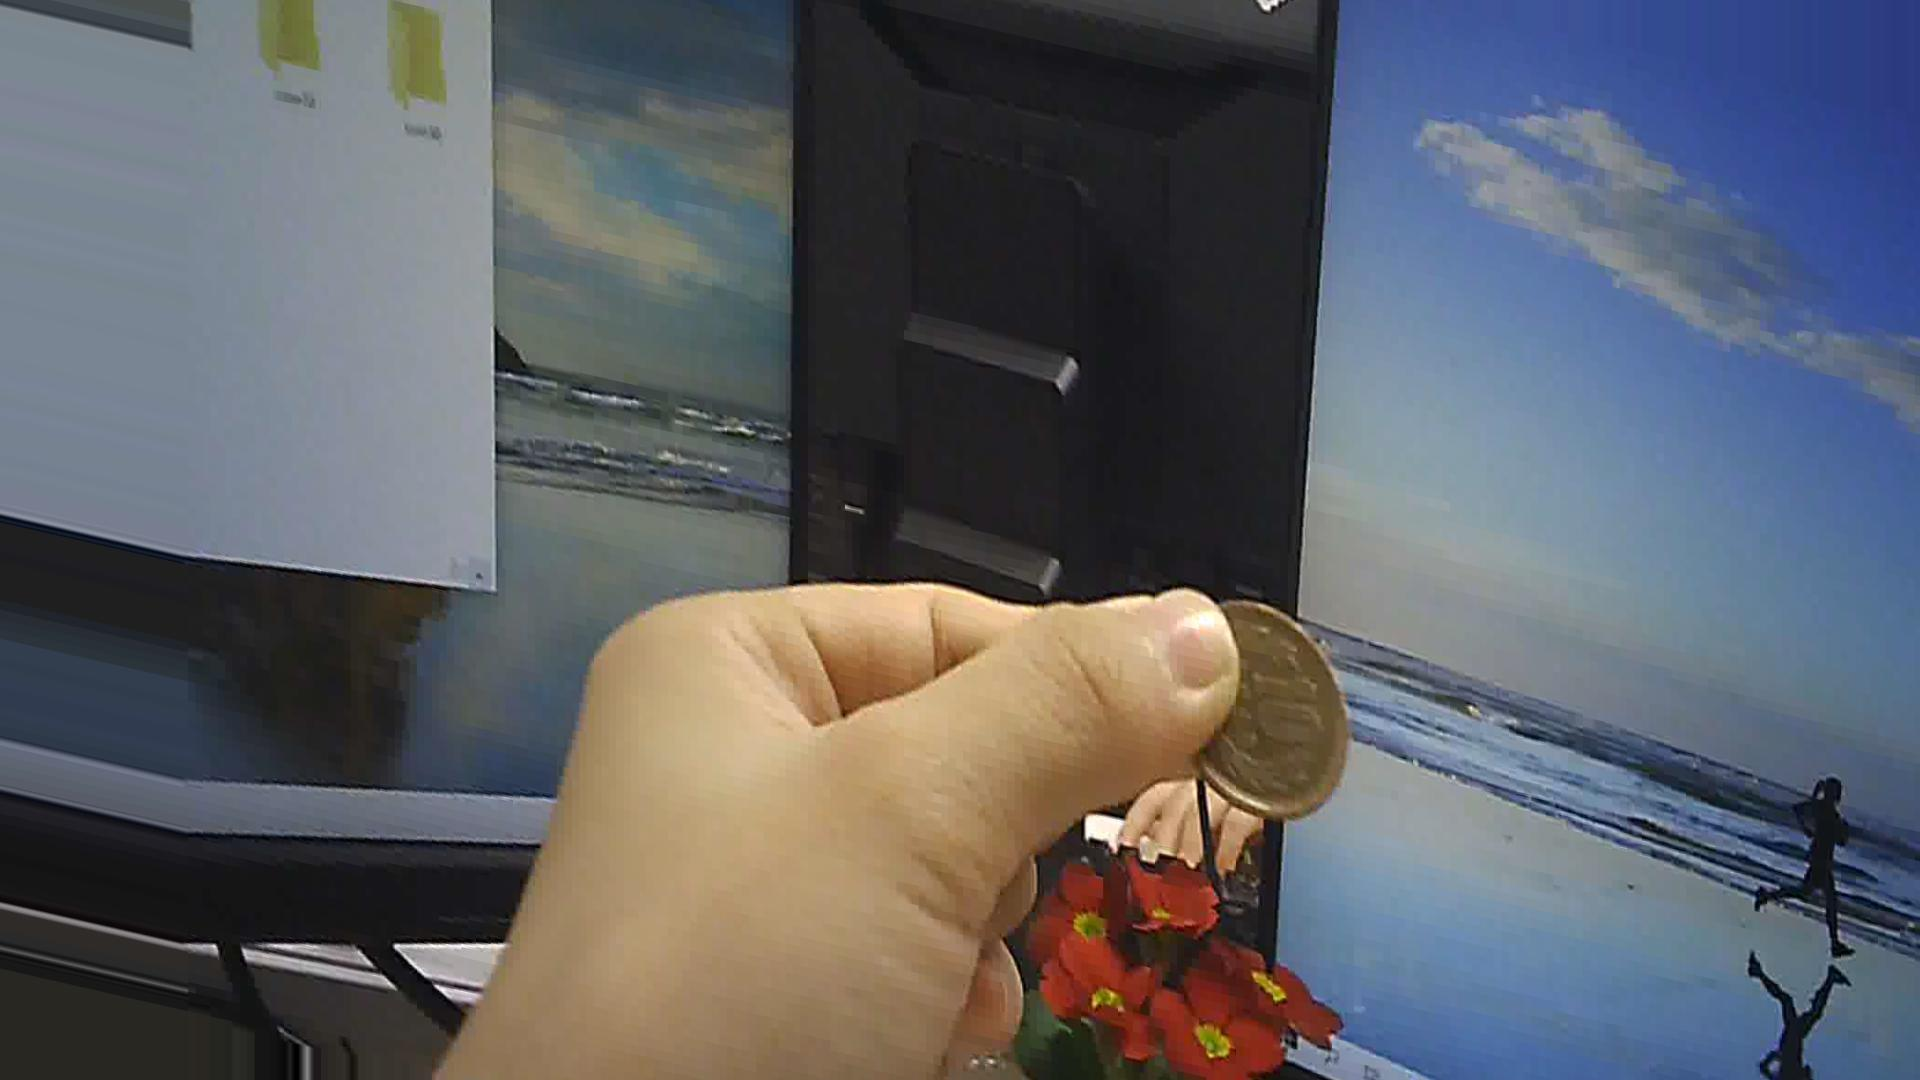10 Yen: (1174, 593, 1360, 819)
